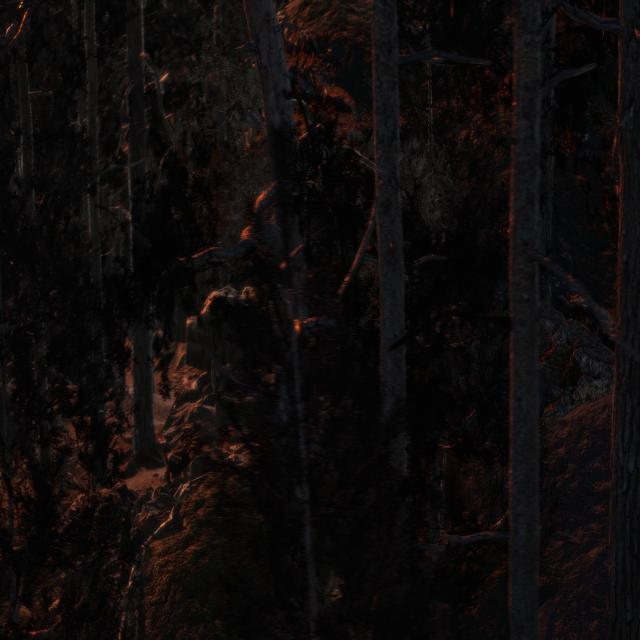Human: (277, 262, 320, 464)
